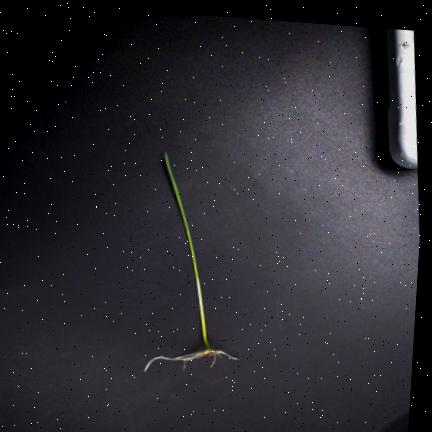leaf: (163, 153, 199, 279)
root1: (172, 351, 203, 360)
root2: (182, 353, 203, 370)
root3: (143, 354, 204, 372)
root4: (209, 353, 216, 368)
root5: (205, 352, 222, 358)
root6: (209, 351, 239, 360)
stem: (196, 279, 214, 354)
